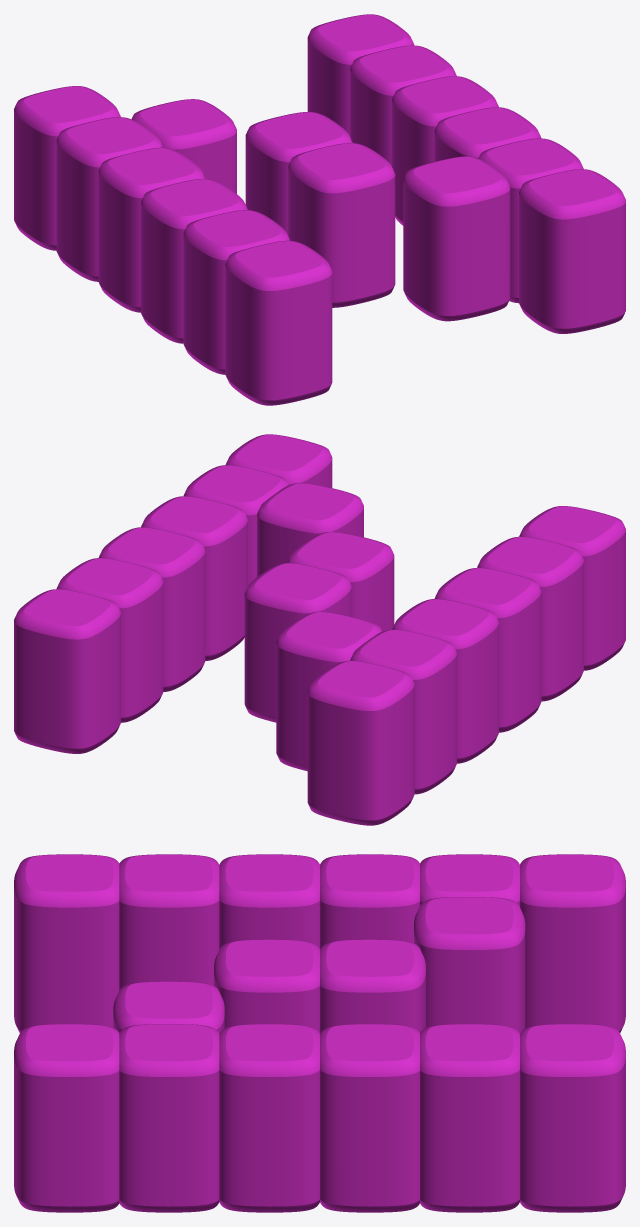
File: Letter_N.fbx
The picture shows the model from 3 angles, top to bottom: view 1: azimuth 30°, elevation 25°; view 2: azimuth 150°, elevation 25°; view 3: azimuth 270°, elevation 25°; orthographic projection. The views are drawn at different scales.
Parts seen in each view (by area): view 1: Letter_N; view 2: Letter_N; view 3: Letter_N.
Boxes of the visible parts, box(x1,y1,x2,y2) form: Letter_N: box(14, 14, 625, 405); Letter_N: box(14, 434, 625, 825); Letter_N: box(14, 854, 625, 1212).
Size of the model in its own units: 0.4311 by 0.14 by 0.5146.
